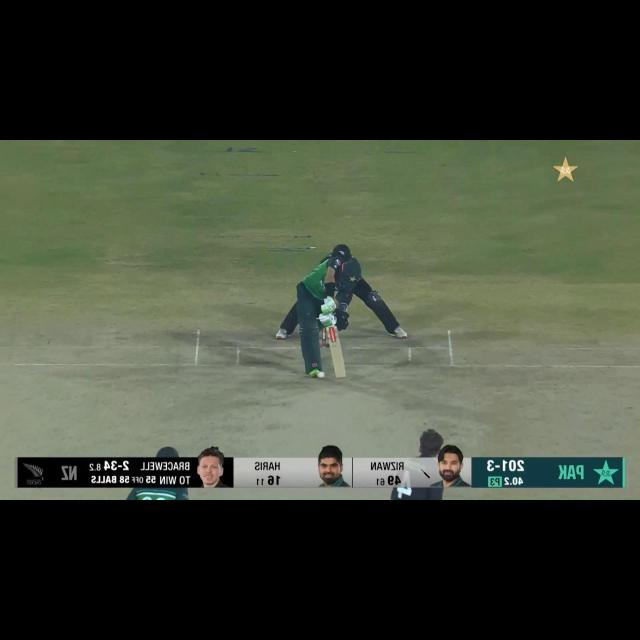bat: (326, 325, 351, 380)
toe: (332, 364, 349, 379)
